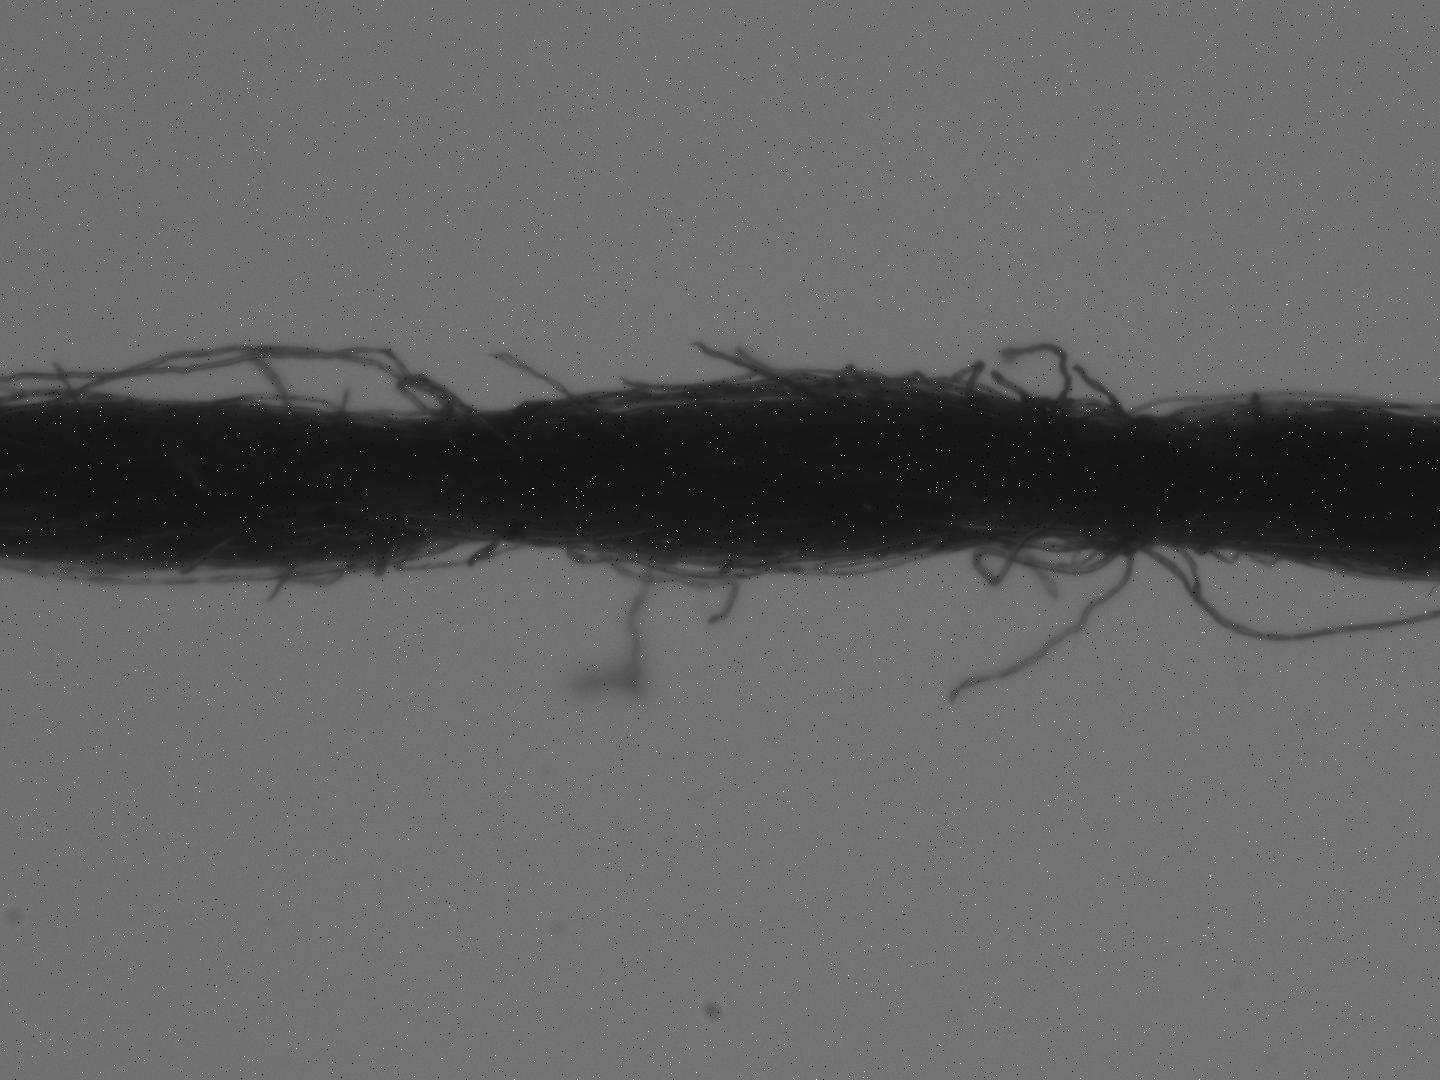loop_fiber: (7, 343, 451, 419), (66, 341, 295, 415), (695, 361, 984, 402), (490, 347, 608, 420), (974, 533, 1117, 591), (601, 546, 797, 588), (393, 372, 483, 433), (406, 538, 525, 571), (223, 389, 349, 419), (285, 554, 364, 585), (567, 545, 668, 566), (1175, 538, 1247, 565), (1015, 532, 1102, 548), (1247, 550, 1286, 568)
protruding_fiber: (1067, 358, 1141, 430)
